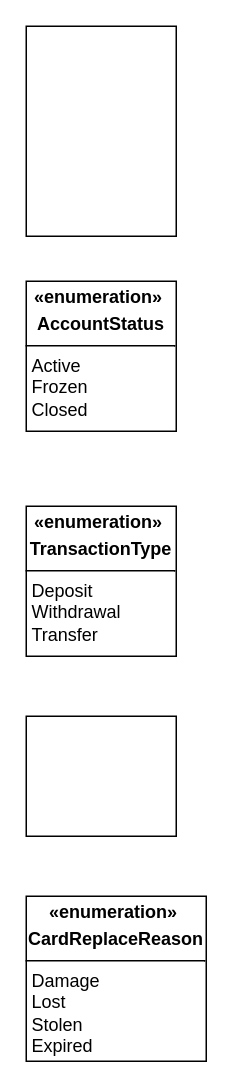
Image size: 233x1088. Some labels were removed from this diagram. Each missing label, with the box of its shape:
«enumeration» CardType Debit ATM: (25, 715, 176, 836)
«enumeration» CurrencyCode JPY USD EUR CNY HKD TWD: (25, 25, 176, 236)
